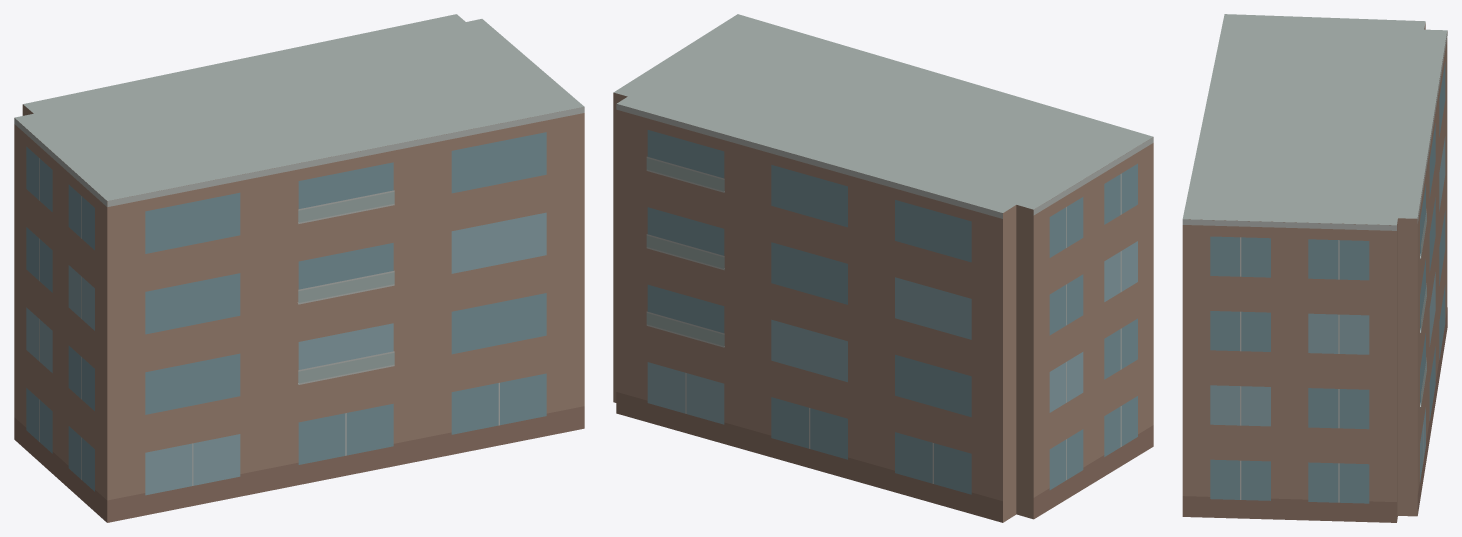
Rendered from survey-upis-32837646.glb.
3 renders of one model, left to right at view 1: azimuth 30°, elevation 25°; view 2: azimuth 150°, elevation 25°; view 3: azimuth 270°, elevation 25°, orthographic. The views are drawn at different scales.
Visible parts, largest first — view 1: survey-upis-32837646.tmp; view 2: survey-upis-32837646.tmp; view 3: survey-upis-32837646.tmp.
Part boxes in pixels (left/top/right/bottom): survey-upis-32837646.tmp: left=14, top=14, right=584, bottom=522; survey-upis-32837646.tmp: left=613, top=14, right=1153, bottom=522; survey-upis-32837646.tmp: left=1182, top=14, right=1447, bottom=522.
Bounding box in the file's own units: 19.5 × 12.8 × 10.33.
